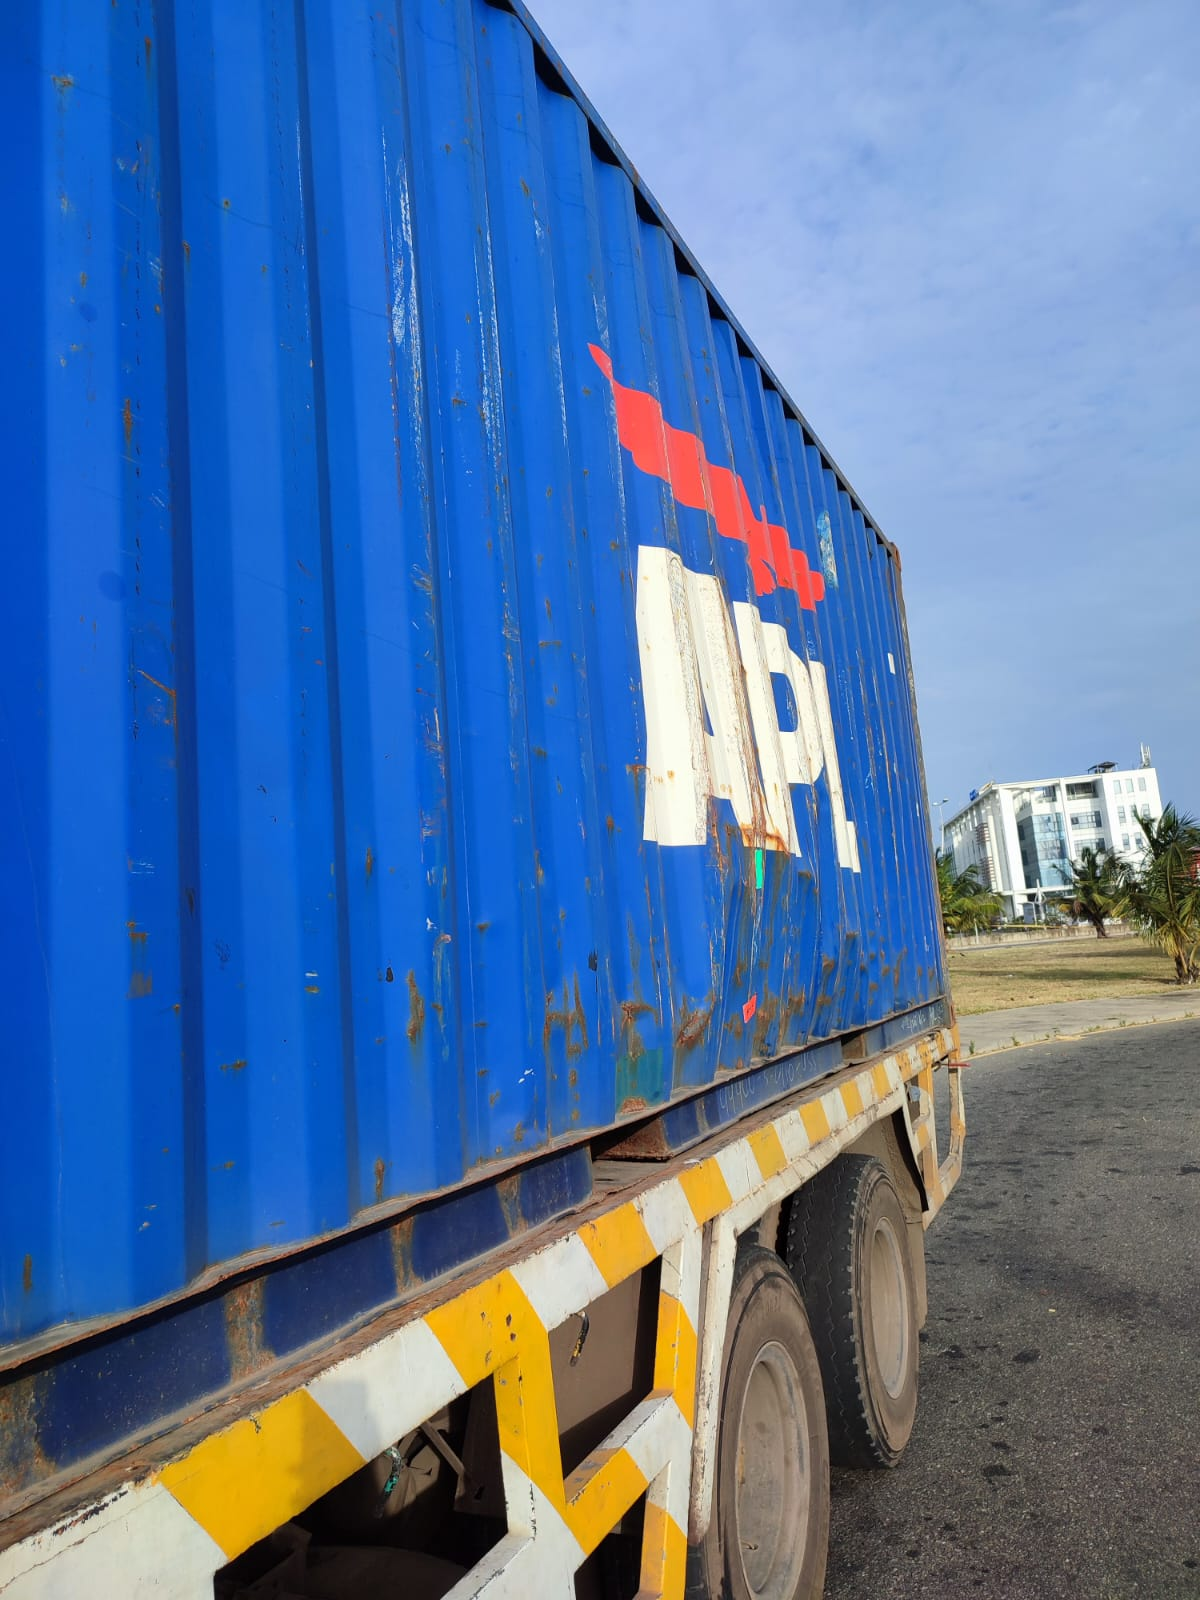moderate: (663, 755, 842, 1027)
